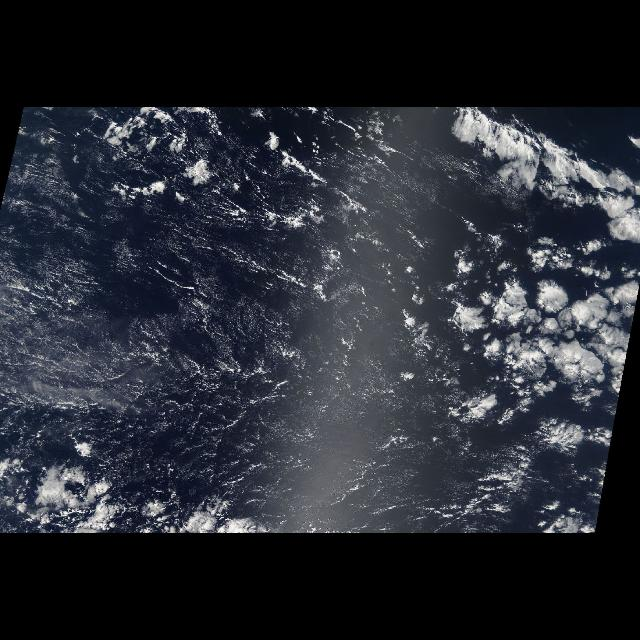Flower: (433, 110, 639, 490)
Gravel: (32, 187, 400, 503)
